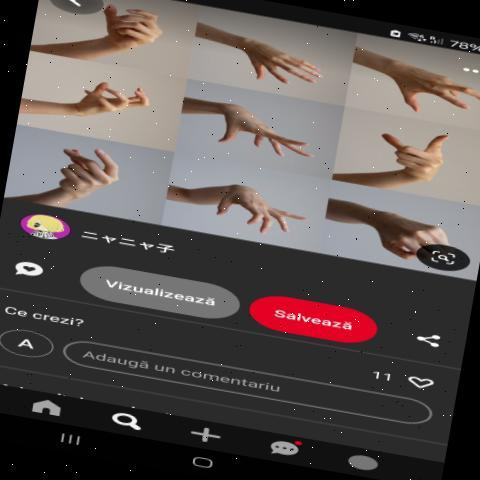Hands: (189, 84, 312, 165), (210, 19, 339, 94), (176, 171, 307, 237), (371, 123, 465, 198), (381, 53, 479, 117)
